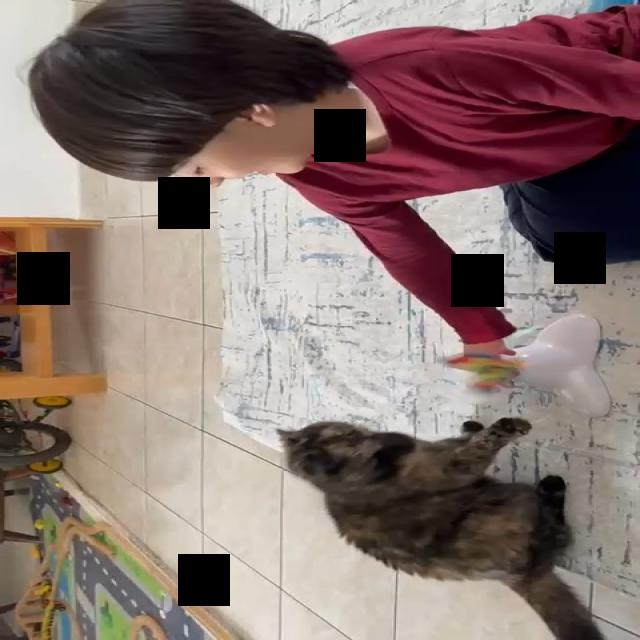authorized: (274, 416, 606, 638)
